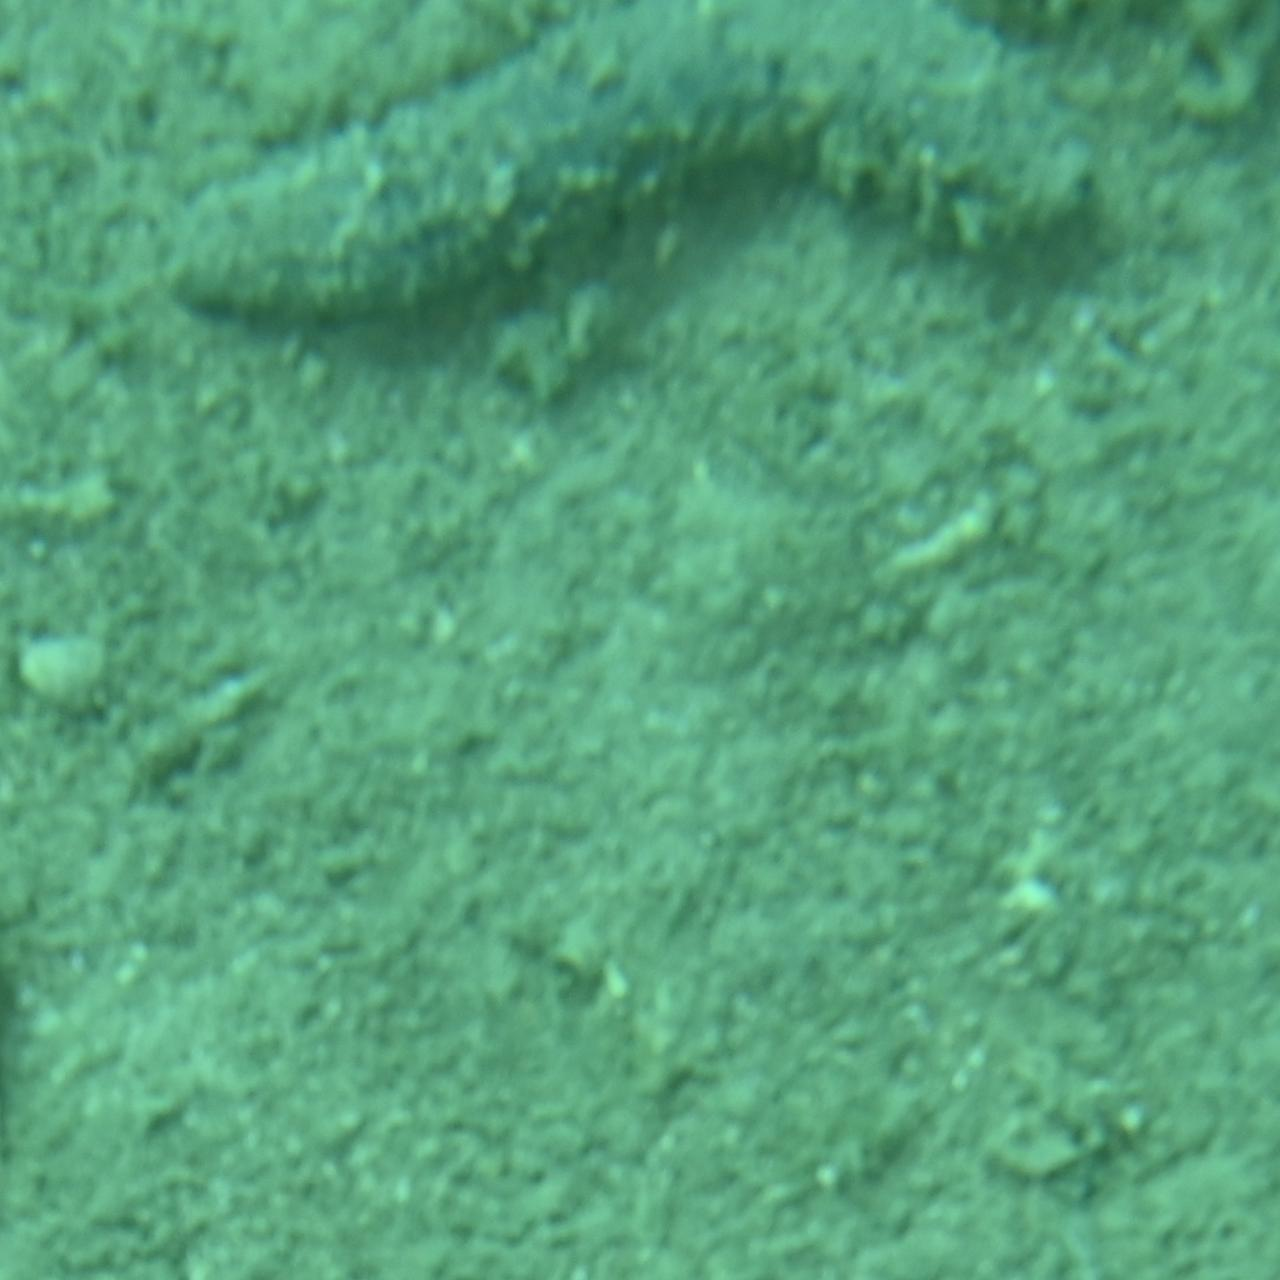Holothuria tubulosa: (151, 2, 1129, 325)
